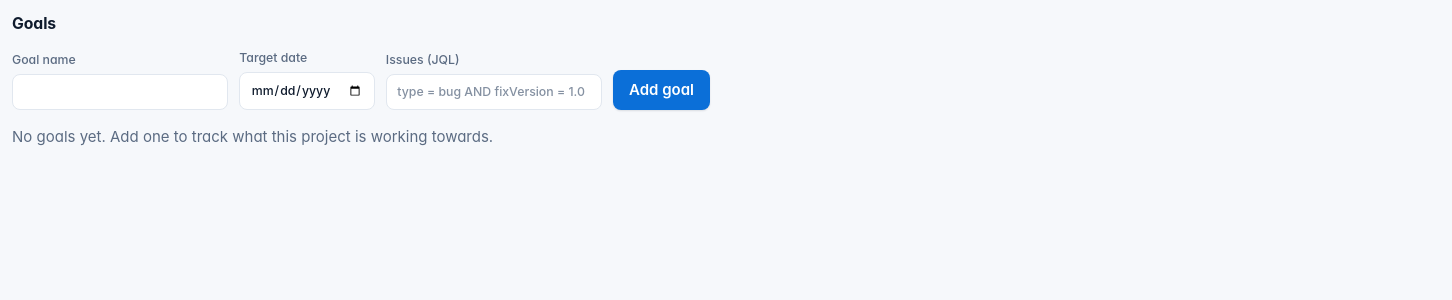
it: goals › adds a goal, reports its status and deletes it
Expected: the text "No goals yet" is shown, top-left (12, 127), bottom-right (493, 146)
Type "Zero bugs" into the field labelled "Goal name".
click(120, 92); type("Zero bugs")  # box top-left (12, 74), bottom-right (228, 110)
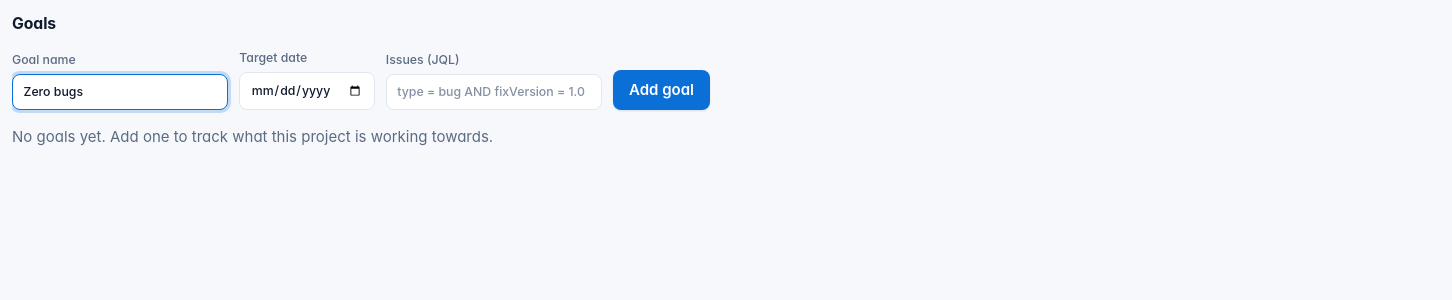
Type "2099-01-01" into the date field labelled "Target date".
click(307, 91); type("2099-01-01")  # box top-left (239, 72), bottom-right (375, 110)
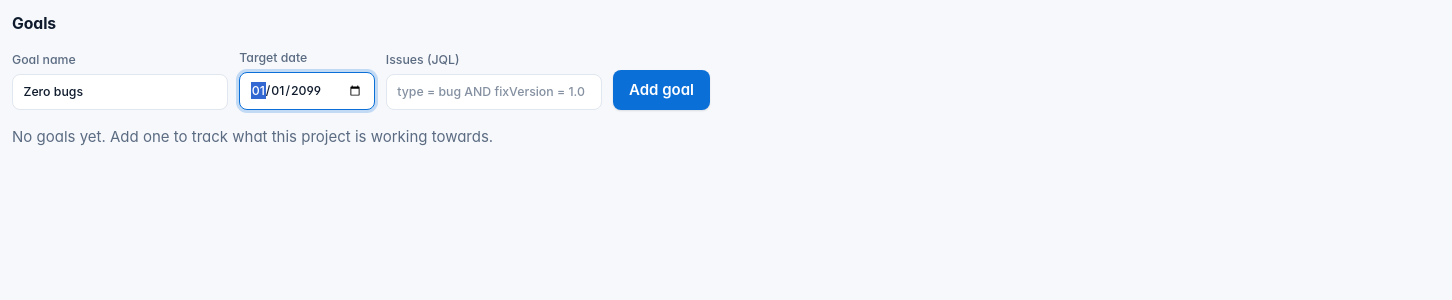
Type "type = bug" into the field labelled "Issues (JQL)".
click(494, 92); type("type = bug")  # box top-left (386, 74), bottom-right (602, 110)
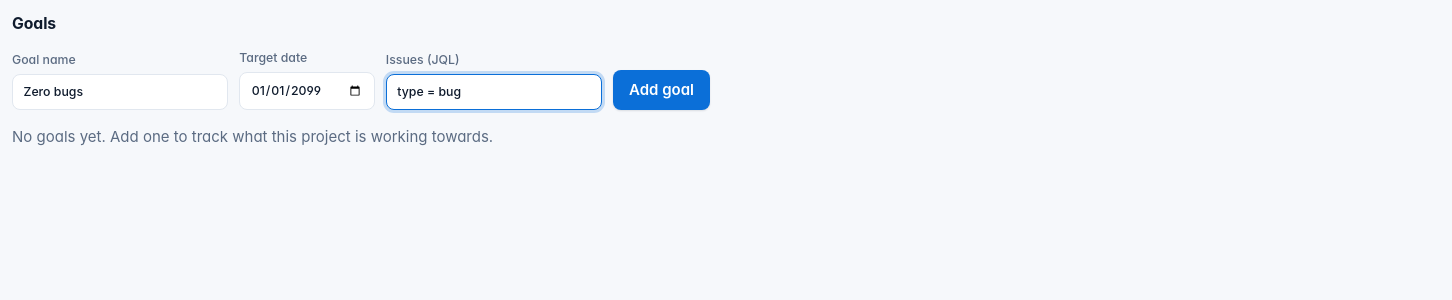
Click the button "Add goal".
click(662, 90)  # box top-left (613, 70), bottom-right (710, 110)
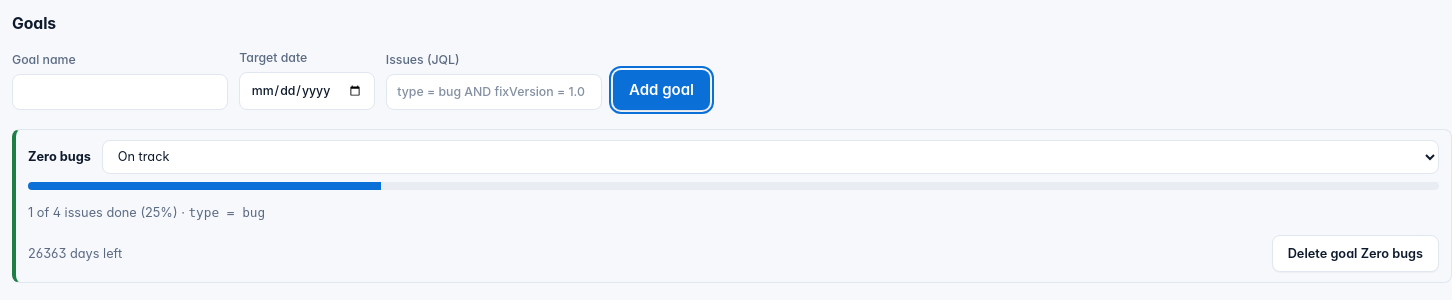
Expected: the text "1 of 4 issues done (25%) · type = bug" is shown, top-left (28, 204), bottom-right (265, 220)
Expected: the text "26363 days left" is shown, top-left (28, 244), bottom-right (122, 263)
Select "At risk" in the dropdown named "Status of Zero bugs" at {"x": 771, "y": 157}, box top-left (102, 140), bottom-right (1439, 174)
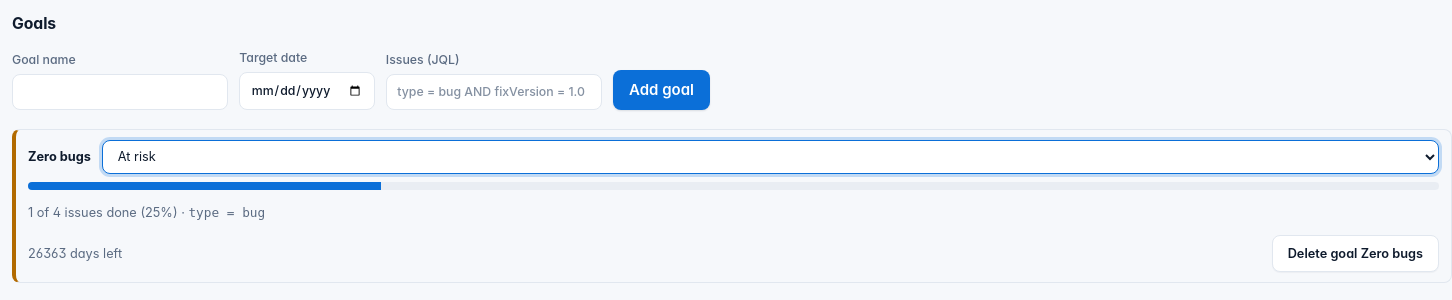
Click the button "Delete goal Zero bugs".
click(1355, 253)  # box top-left (1272, 235), bottom-right (1439, 272)
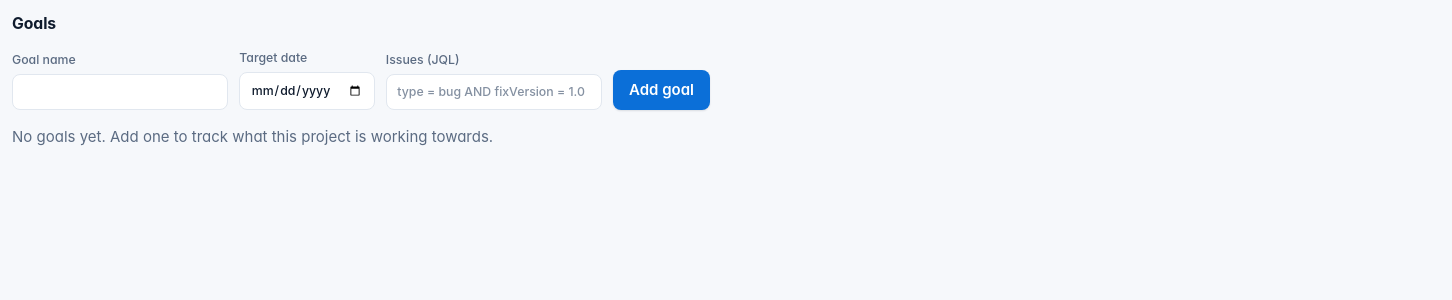
Expected: the text "No goals yet" is shown, top-left (12, 127), bottom-right (493, 146)
